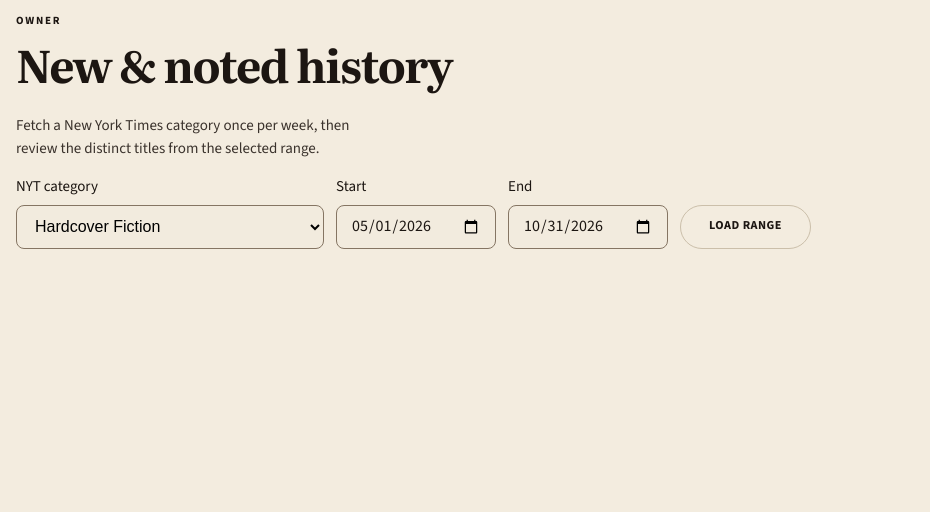
Test: collapses duplicate titles and keeps one action on the book
Click the button "Load range": click(746, 226) [680,204,811,248]
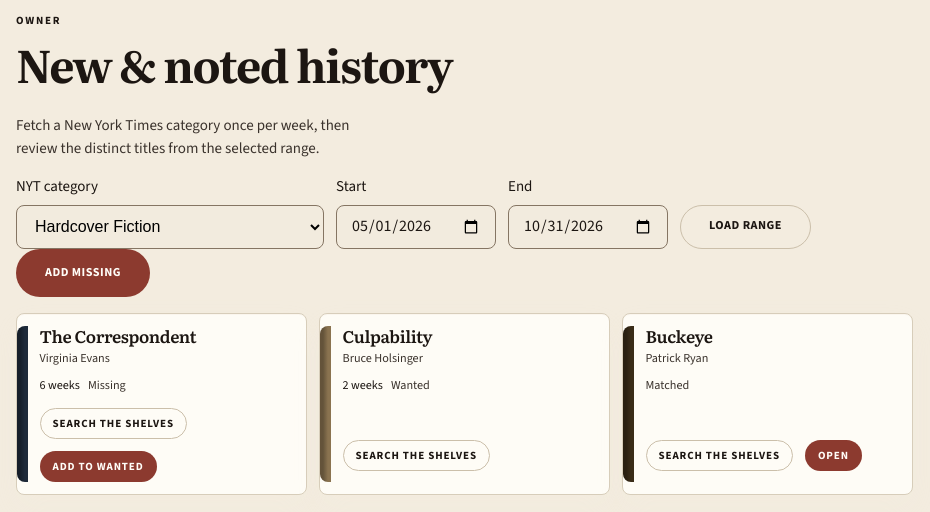
Result: the heading "The Correspondent" is shown at [40,323,196,348]
Result: the text "6 weeks" is shown at [40,377,80,396]
Result: the text "2 weeks" is shown at [342,377,383,396]
Click the button "Add to Wanted": click(98, 466) [40,451,157,482]
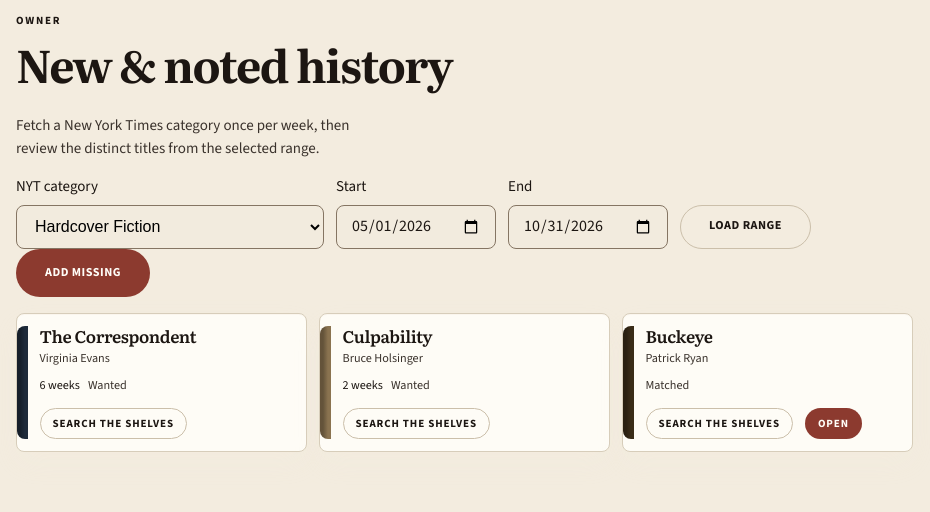
Result: the heading "The Correspondent" is shown at [40,323,196,348]
Result: the button "Add to Wanted" is gone
